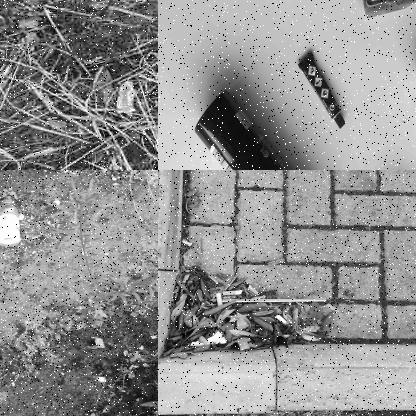metal: (192, 87, 349, 169)
plastic: (297, 46, 346, 132), (204, 292, 333, 308), (0, 196, 27, 249), (118, 81, 135, 112)
